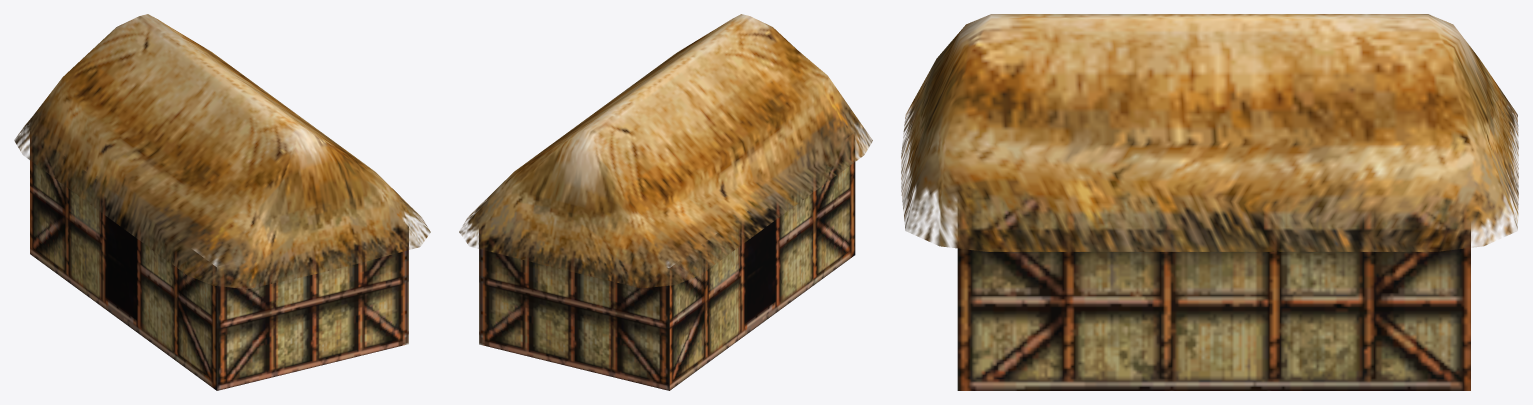
File: Environment - Prop - Gras Hut 02 - PMGrasHut02.glb
3 views of the same model, side by side, from view 1: azimuth 30°, elevation 25°; view 2: azimuth 150°, elevation 25°; view 3: azimuth 270°, elevation 25° (orthographic). The views are drawn at different scales.
Visible parts, largest first — view 1: PMGRASHUT02; view 2: PMGRASHUT02; view 3: PMGRASHUT02.
Part boxes in pixels (x1,y1,x2,y2): PMGRASHUT02: (14,14,430,390); PMGRASHUT02: (459,14,872,390); PMGRASHUT02: (901,14,1518,390).
Bounding box in the file's own units: 17.09 × 15.74 × 28.32.
Materials: 1 (1 with a texture image).
